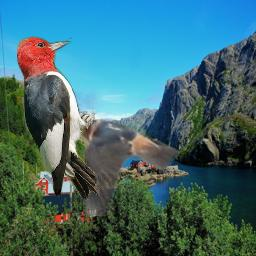Swallow: (75, 115, 181, 216)
Woodpecker: (17, 35, 102, 201)
